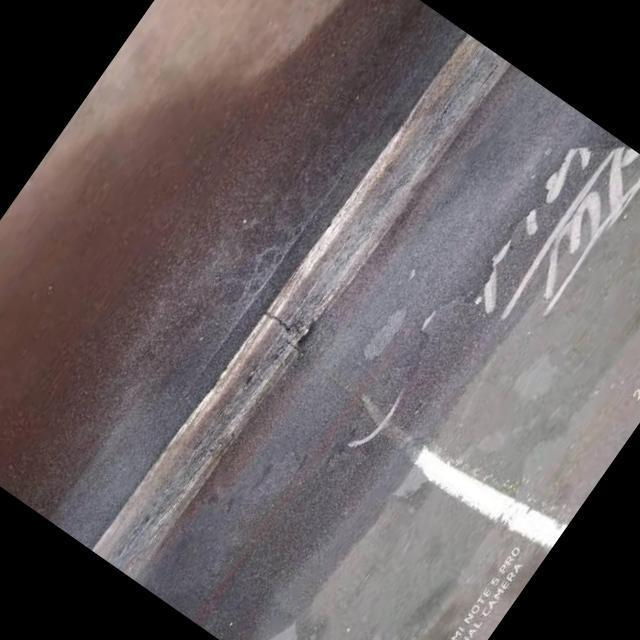defect: (262, 307, 307, 334)
